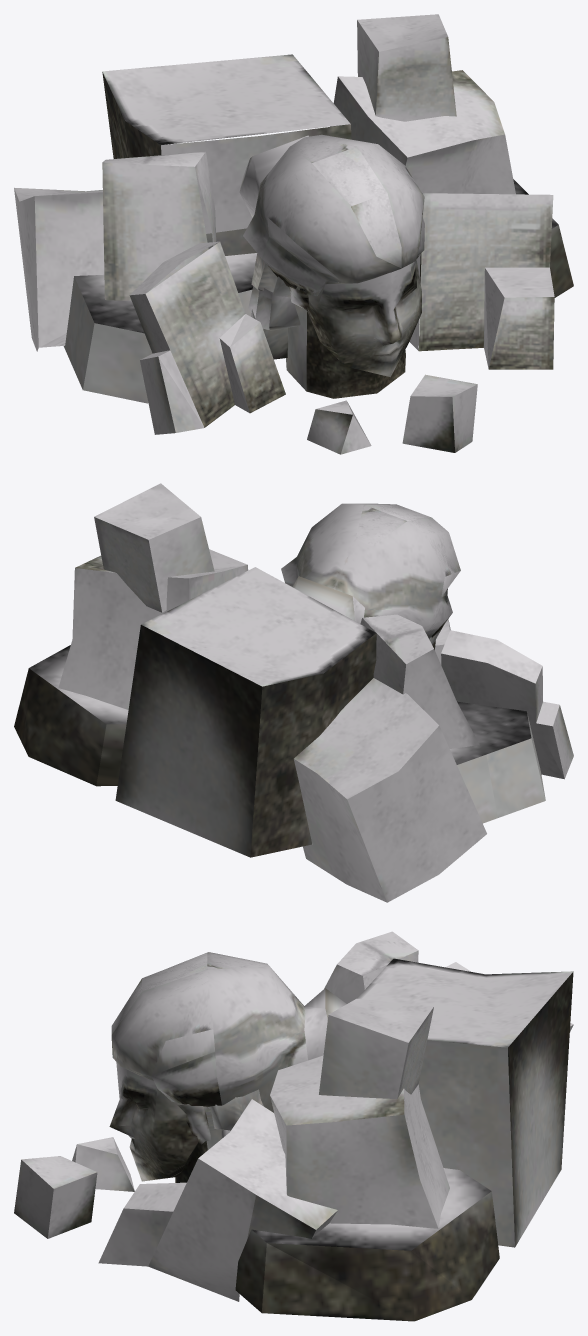
The model's file is ob-bigstatue01_lod_01.glb.
3 renders of one model, top to bottom at view 1: azimuth 30°, elevation 25°; view 2: azimuth 150°, elevation 25°; view 3: azimuth 270°, elevation 25°, orthographic. The views are drawn at different scales.
Visible parts, largest first — view 1: ob-bigstatue01-01, ob-bigstatue01-02; view 2: ob-bigstatue01-01, ob-bigstatue01-02; view 3: ob-bigstatue01-01, ob-bigstatue01-02.
Part boxes in pixels (<box>): ob-bigstatue01-01: <box>14,14,554,454</box>; ob-bigstatue01-02: <box>74,37,573,427</box>; ob-bigstatue01-01: <box>58,483,573,902</box>; ob-bigstatue01-02: <box>14,567,531,857</box>; ob-bigstatue01-01: <box>14,931,573,1301</box>; ob-bigstatue01-02: <box>235,958,573,1321</box>.
Size of the model in its own units: 11.2 by 6.4 by 10.85.
2 materials, 2 textured.
